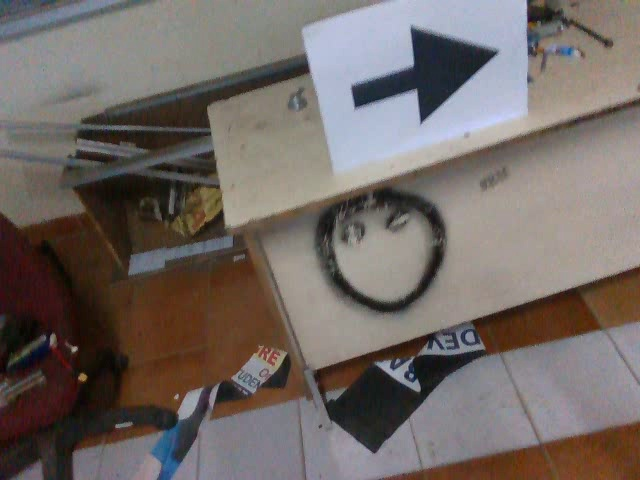Right: (338, 21, 504, 127)
